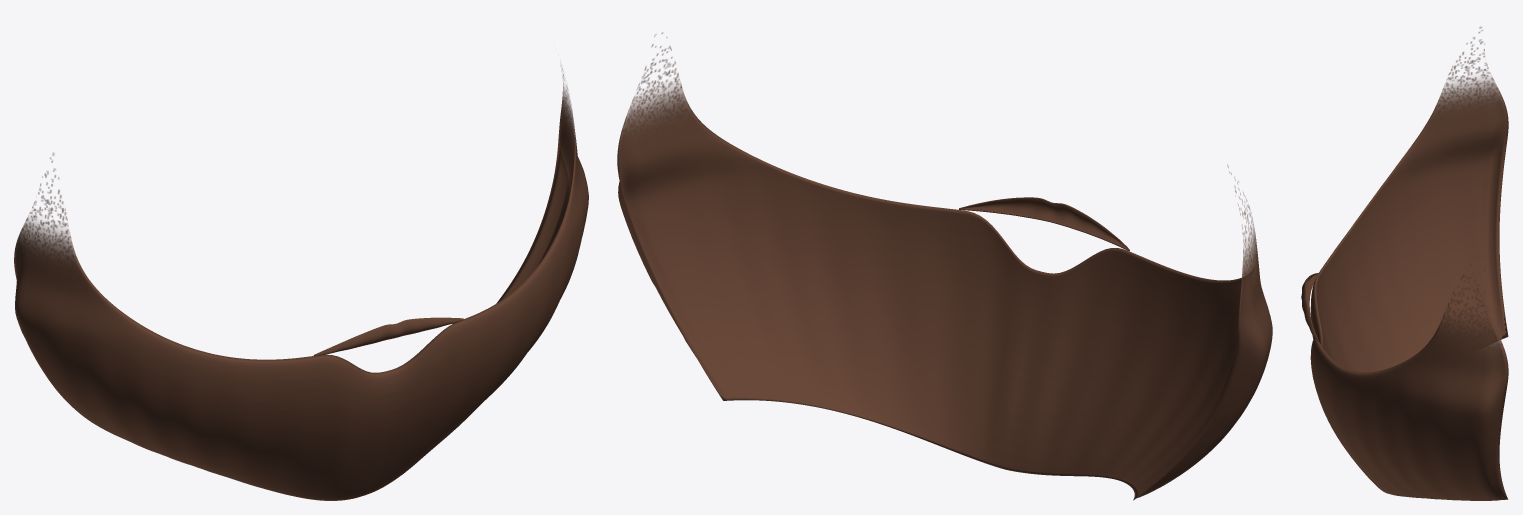
The model's file is Masculine-groom-full.glb.
The picture shows the model from 3 angles, left to right: view 1: azimuth 30°, elevation 25°; view 2: azimuth 150°, elevation 25°; view 3: azimuth 270°, elevation 25°; orthographic projection. The views are drawn at different scales.
Parts seen in each view (by area): view 1: Groom / full body184, Groom / shared mustache184; view 2: Groom / full body184, Groom / shared mustache184; view 3: Groom / full body184, Groom / shared mustache184.
Part boxes in pixels (x1,y1,x2,y2): Groom / full body184: [14, 64, 588, 500]; Groom / shared mustache184: [313, 317, 463, 355]; Groom / full body184: [617, 32, 1272, 500]; Groom / shared mustache184: [959, 197, 1129, 251]; Groom / full body184: [1310, 26, 1508, 500]; Groom / shared mustache184: [1301, 273, 1318, 341].
Size of the model in its own units: 0.9843 by 0.6371 by 0.3363.
2 materials, 1 textured.
